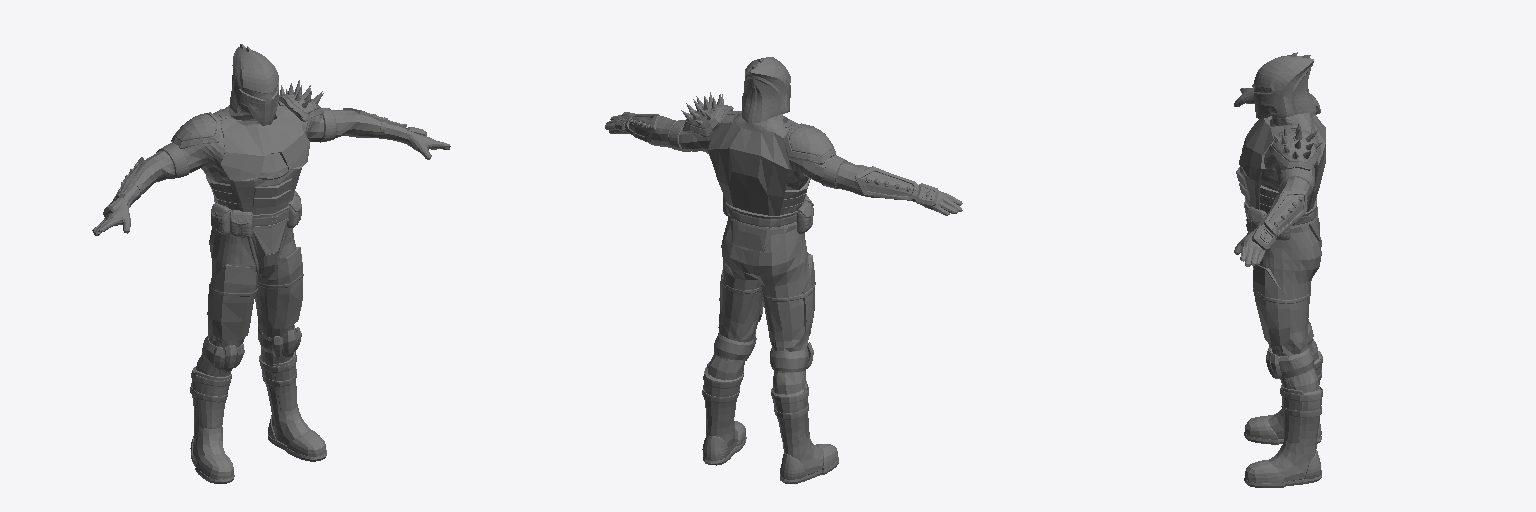
File: character.obj
3 views of the same model, side by side, from view 1: azimuth 30°, elevation 25°; view 2: azimuth 150°, elevation 25°; view 3: azimuth 270°, elevation 25° (orthographic).
Visible parts, largest first — view 1: one_LP1; view 2: one_LP1; view 3: one_LP1.
Boxes of the visible parts, x1,y1,x2,y2 form: one_LP1: [92, 44, 450, 483]; one_LP1: [605, 57, 962, 483]; one_LP1: [1234, 52, 1325, 487].
Bounding box in the file's own units: 1.86 × 2.04 × 0.4196.